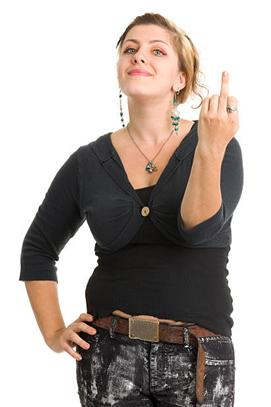insulting_gesture: (191, 70, 242, 152)
